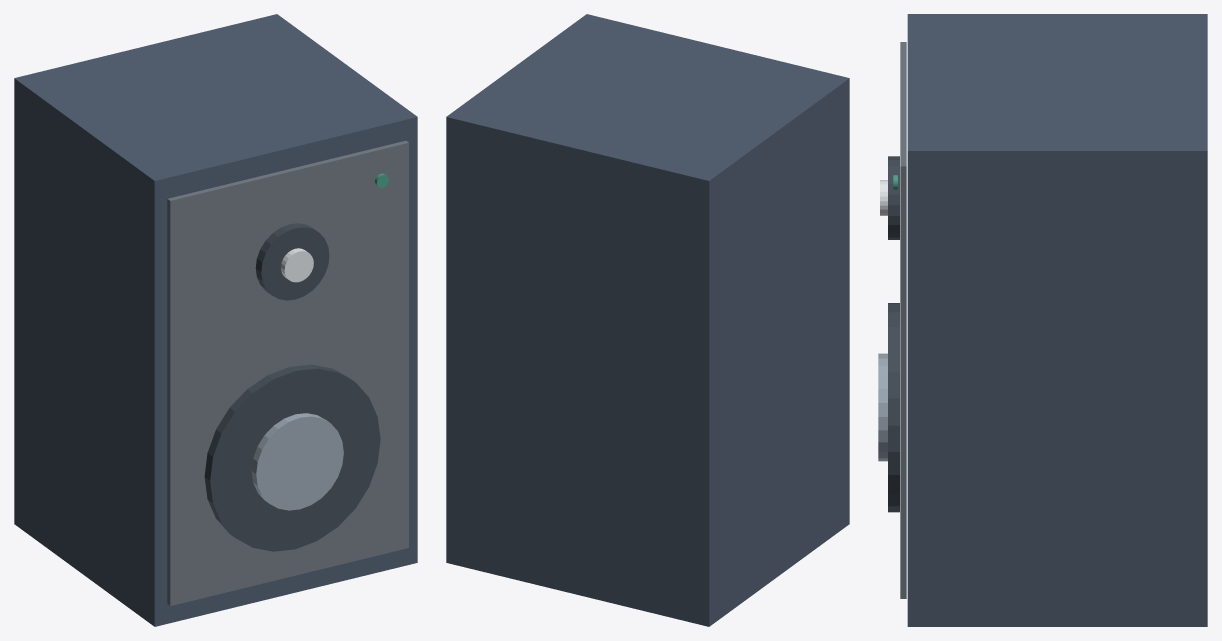
Rendered from speaker.glb.
3 views of the same model, side by side, from view 1: azimuth 30°, elevation 25°; view 2: azimuth 150°, elevation 25°; view 3: azimuth 270°, elevation 25° (orthographic). The views are drawn at different scales.
Visible parts, largest first — view 1: speaker_cabinet_1, grille_2, woofer_3, woofer_center_4, tweeter_5, tweeter_center_6; view 2: speaker_cabinet_1; view 3: speaker_cabinet_1, grille_2, woofer_3, woofer_center_4, tweeter_5.
Boxes of the visible parts, box(x1,y1,x2,y2) form: speaker_cabinet_1: box(14, 14, 417, 626); grille_2: box(167, 140, 408, 605); woofer_3: box(204, 364, 380, 551); woofer_center_4: box(251, 413, 343, 510); tweeter_5: box(255, 223, 329, 300); tweeter_center_6: box(281, 248, 313, 282); speaker_cabinet_1: box(446, 14, 849, 626); speaker_cabinet_1: box(907, 14, 1207, 626); grille_2: box(900, 42, 906, 598); woofer_3: box(888, 303, 899, 512); woofer_center_4: box(878, 353, 887, 461); tweeter_5: box(888, 156, 899, 239).
Size of the model in its own units: 1.08 by 1.75 by 1.1.
